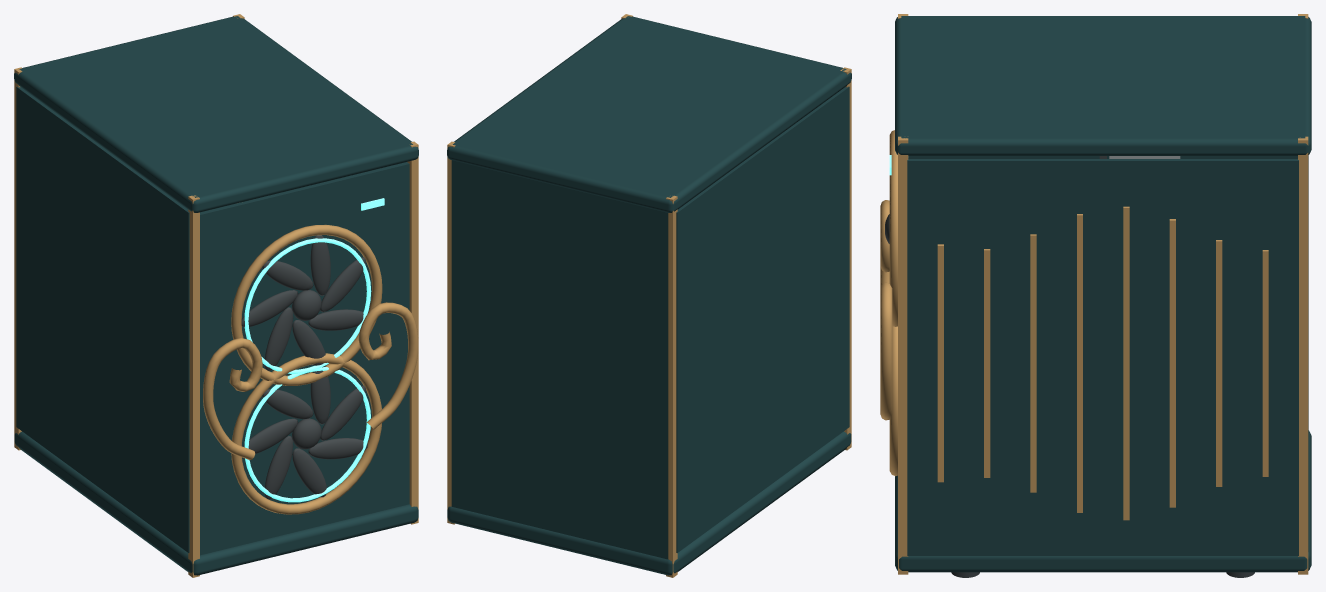
The model's file is pc_case_brass_royal-5d818e3995d7.glb.
The picture shows the model from 3 angles, left to right: view 1: azimuth 30°, elevation 25°; view 2: azimuth 150°, elevation 25°; view 3: azimuth 270°, elevation 25°; orthographic projection. The views are drawn at different scales.
Parts seen in each view (by area): view 1: surface_deep, surface_brass, surface_graphite, surface_cyan; view 2: surface_deep, surface_brass; view 3: surface_deep, surface_brass.
Boxes of the visible parts, <box> form: surface_deep: <box>14,16,418,575</box>; surface_brass: <box>14,14,418,577</box>; surface_graphite: <box>241,235,367,499</box>; surface_cyan: <box>244,198,384,502</box>; surface_deep: <box>447,16,851,575</box>; surface_brass: <box>447,14,851,577</box>; surface_deep: <box>895,16,1311,572</box>; surface_brass: <box>880,14,1308,574</box>.
Bounding box in the file's own units: 0.2938 × 0.474 × 0.4139.
